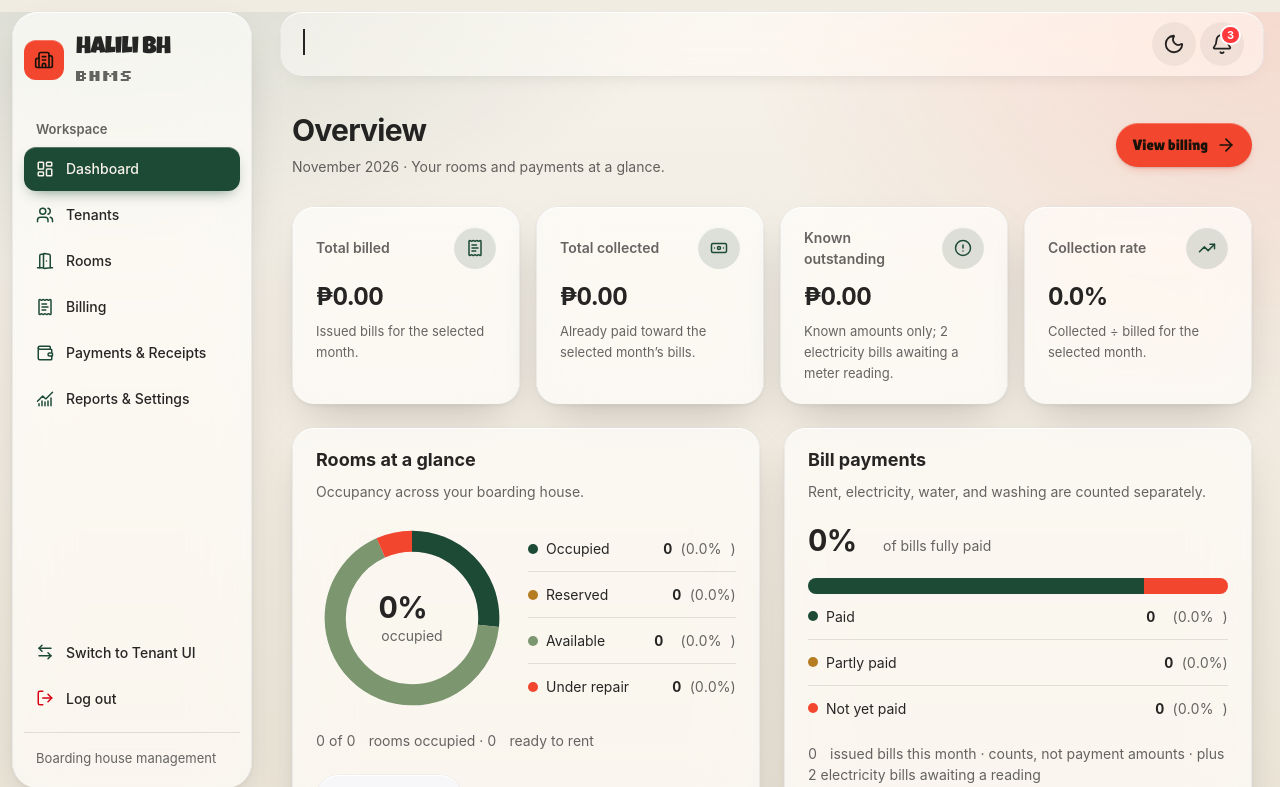
workspace switching › switches from admin to the tenant workspace and back to the dashboard
This screenshot has width=1280, height=787.
Click the button "Switch to Tenant UI". click: (132, 652)
box: 24,630 -> 240,674
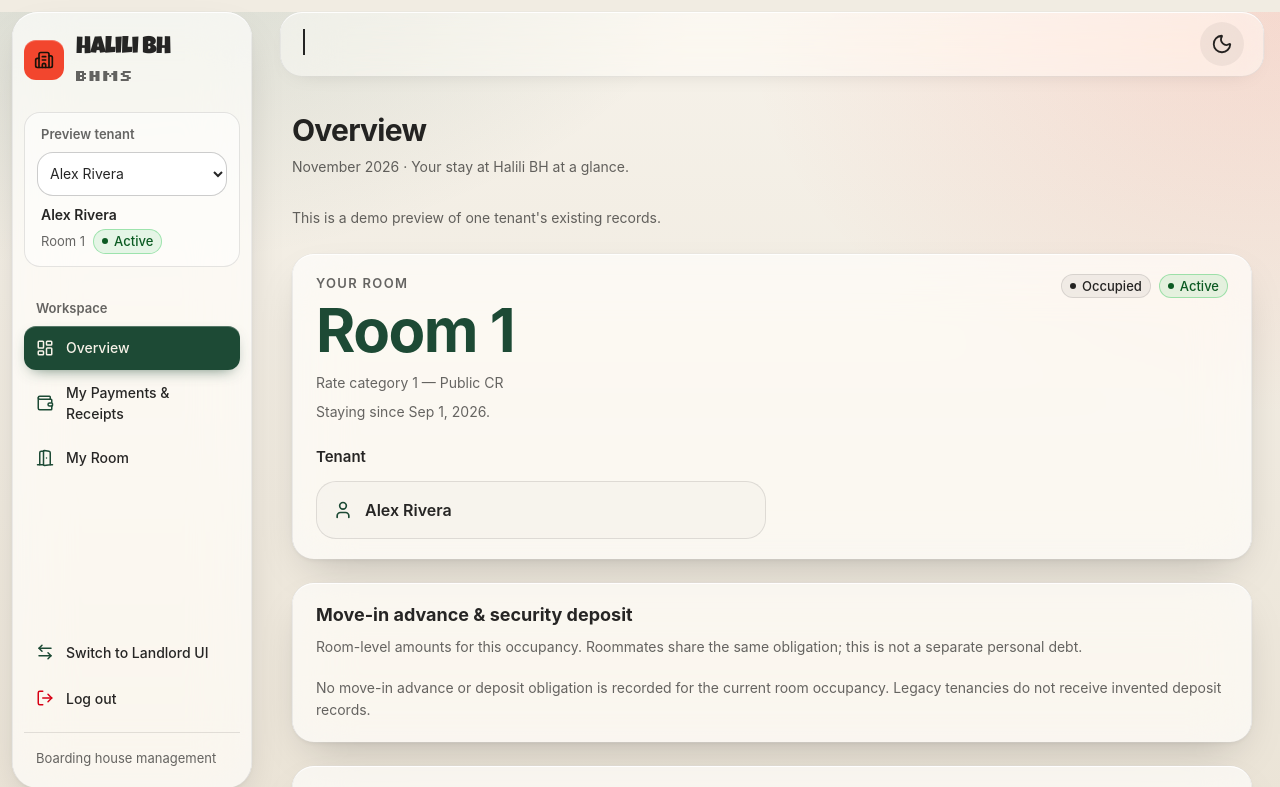
Expected: the heading "Overview" is shown, 292,112 -> 426,148
Expected: the button "Switch to Landlord UI" is shown
Expected: the link "Dashboard" is gone
Click the button "Switch to Landlord UI". click: (132, 652)
box: 24,630 -> 240,674
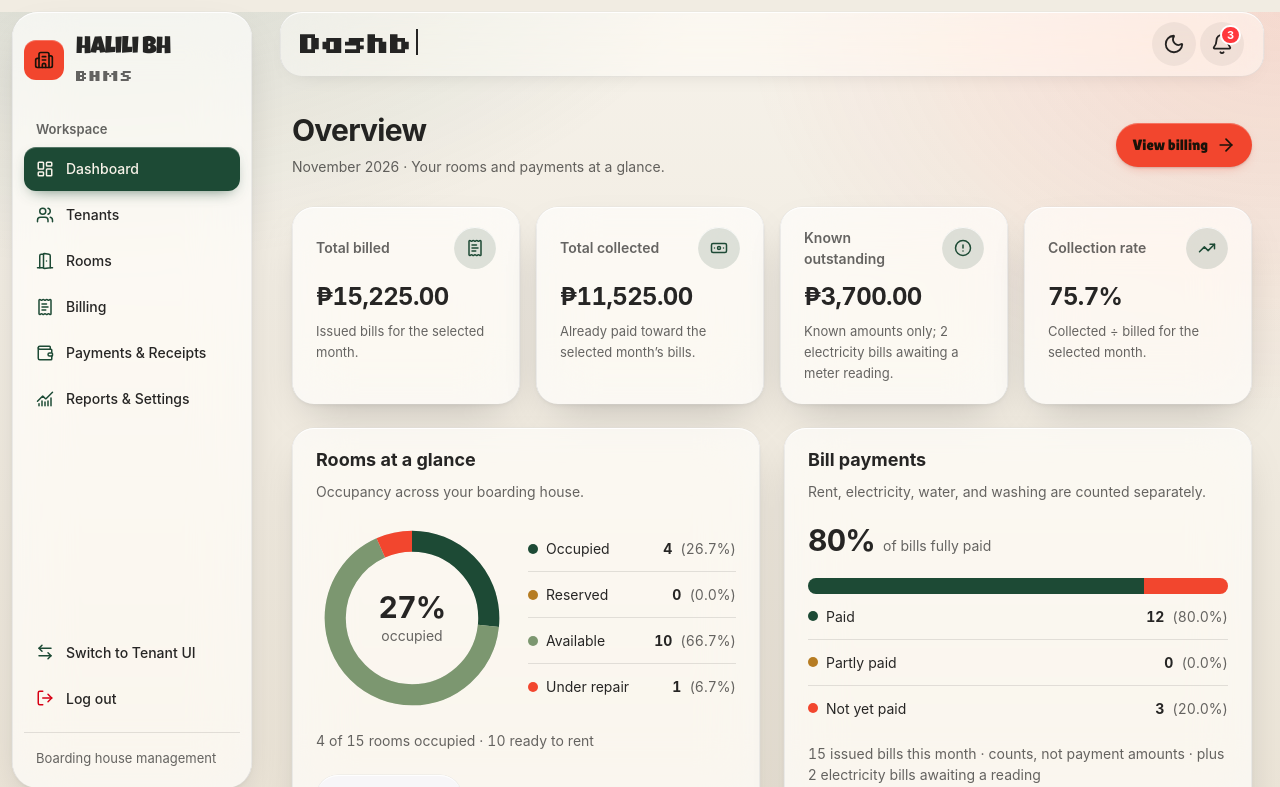
Expected: the heading "Overview" is shown, 292,112 -> 426,148
Expected: the button "Switch to Tenant UI" is shown, 24,630 -> 240,674
